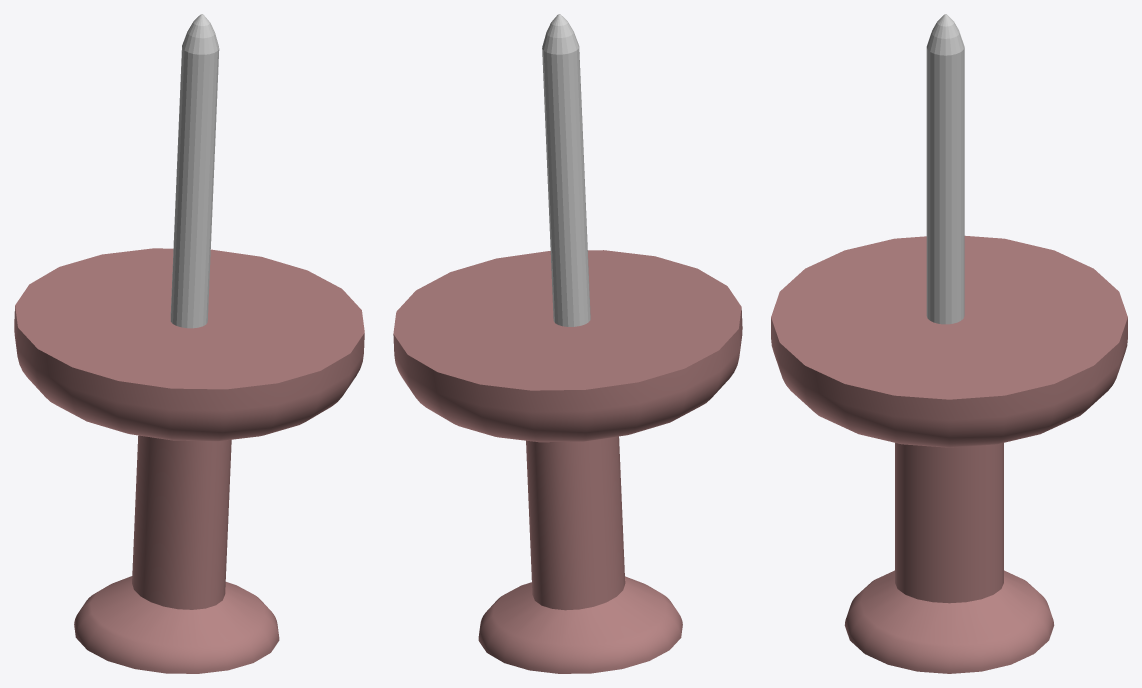
The model's file is RedThumbtack.fbx.
3 views of the same model, side by side, from view 1: azimuth 30°, elevation 25°; view 2: azimuth 150°, elevation 25°; view 3: azimuth 270°, elevation 25° (orthographic).
Parts seen in each view (by area): view 1: ThumbtackBod, pCylinder1; view 2: ThumbtackBod, pCylinder1; view 3: ThumbtackBod, pCylinder1.
Boxes of the visible parts, left/top/right/bottom form: ThumbtackBod: left=14, top=248, right=364, bottom=673; pCylinder1: left=170, top=14, right=219, bottom=328; ThumbtackBod: left=393, top=250, right=742, bottom=673; pCylinder1: left=542, top=14, right=590, bottom=326; ThumbtackBod: left=771, top=235, right=1127, bottom=673; pCylinder1: left=926, top=14, right=964, bottom=324.
Size of the model in its own units: 3.41 by 6.6 by 3.41.
